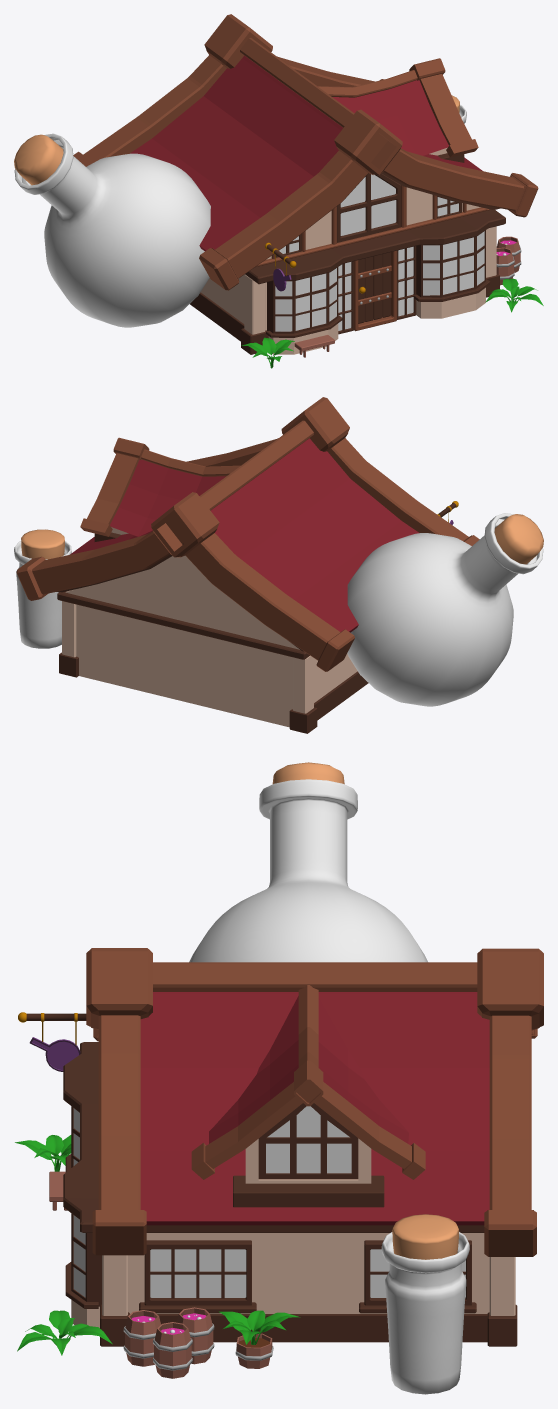
The model's file is PotionShop_Upgrade_4.fbx.
3 renders of one model, top to bottom at view 1: azimuth 30°, elevation 25°; view 2: azimuth 150°, elevation 25°; view 3: azimuth 270°, elevation 25°, orthographic. The views are drawn at different scales.
Visible parts, largest first — view 1: Cork.001; view 2: Cork.001; view 3: Cork.001.
Boxes of the visible parts, box(x1,y1,x2,y2) form: Cork.001: box(14, 14, 543, 368); Cork.001: box(14, 397, 543, 733); Cork.001: box(15, 762, 543, 1394).
Bounding box in the file's own units: 1041 × 428 × 657.
